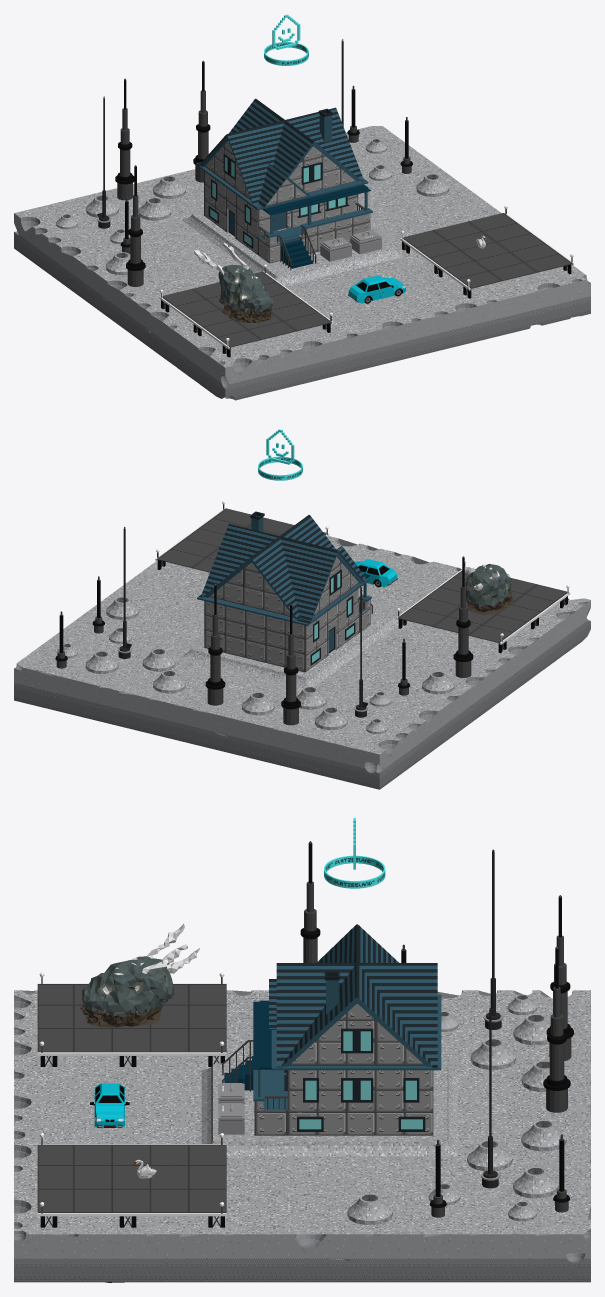
3 renders of one model, top to bottom at view 1: azimuth 30°, elevation 25°; view 2: azimuth 150°, elevation 25°; view 3: azimuth 270°, elevation 25°, orthographic. The views are drawn at different scales.
Visible parts, largest first — view 1: Cube.027, Cube.078, Cube.026, Cube.025, Cube.028, OBJRANDOM_METEORITE, Cylinder.021, Cylinder.020, VEHICLES_CAR, Cylinder.017, TYPE_PREMIUM, Cube.029 (+4 smaller); view 2: Cube.027, Cube.078, Cube.025, Cube.028, Cube.026, OBJRANDOM_METEORITE, Cylinder.017, Cylinder.021, Cylinder.020, TYPE_PREMIUM, VEHICLES_CAR, Cylinder.030 (+8 smaller); view 3: Cube.027, Cube.078, Cube.026, Cube.025, Cube.028, OBJRANDOM_METEORITE, Cylinder.017, VEHICLES_CAR, Cylinder.020, Cylinder.021, TYPE_PREMIUM, Cylinder.031 (+11 smaller).
Part boxes in pixels (left/top/right/bottom): Cube.027: left=14, top=126, right=590, bottom=400; Cube.078: left=196, top=98, right=372, bottom=269; Cube.026: left=400, top=205, right=574, bottom=298; Cube.025: left=159, top=264, right=333, bottom=357; Cube.028: left=182, top=211, right=403, bottom=286; OBJRANDOM_METEORITE: left=194, top=242, right=273, bottom=323; Cylinder.021: left=126, top=165, right=145, bottom=286; Cylinder.020: left=115, top=78, right=134, bottom=200; VEHICLES_CAR: left=348, top=275, right=405, bottom=303; Cylinder.017: left=193, top=60, right=210, bottom=182; TYPE_PREMIUM: left=264, top=14, right=308, bottom=65; Cube.029: left=320, top=237, right=351, bottom=261; Cube.027: left=14, top=536, right=590, bottom=789; Cube.078: left=197, top=511, right=372, bottom=672; Cube.025: left=396, top=560, right=570, bottom=653; Cube.028: left=181, top=610, right=398, bottom=688; Cube.026: left=155, top=501, right=329, bottom=572; OBJRANDOM_METEORITE: left=464, top=563, right=513, bottom=614; Cylinder.017: left=205, top=583, right=225, bottom=705; Cylinder.021: left=453, top=556, right=473, bottom=677; Cylinder.020: left=281, top=603, right=300, bottom=725; TYPE_PREMIUM: left=258, top=429, right=302, bottom=480; VEHICLES_CAR: left=354, top=559, right=397, bottom=587; Cylinder.030: left=142, top=648, right=175, bottom=671; Cube.027: left=14, top=990, right=590, bottom=1282; Cube.078: left=222, top=924, right=441, bottom=1135; Cube.026: left=37, top=1133, right=226, bottom=1227; Cube.025: left=37, top=972, right=226, bottom=1066; Cube.028: left=201, top=1063, right=457, bottom=1156; OBJRANDOM_METEORITE: left=80, top=923, right=199, bottom=1027; Cylinder.017: left=543, top=946, right=570, bottom=1112; VEHICLES_CAR: left=90, top=1083, right=129, bottom=1127; Cylinder.020: left=546, top=895, right=573, bottom=1060; Cylinder.021: left=300, top=841, right=320, bottom=962; TYPE_PREMIUM: left=324, top=818, right=385, bottom=888; Cylinder.031: left=513, top=1167, right=558, bottom=1198.
Size of the model in its own units: 4000 by 2676 by 4000.
Materials: 37 (7 with a texture image).
